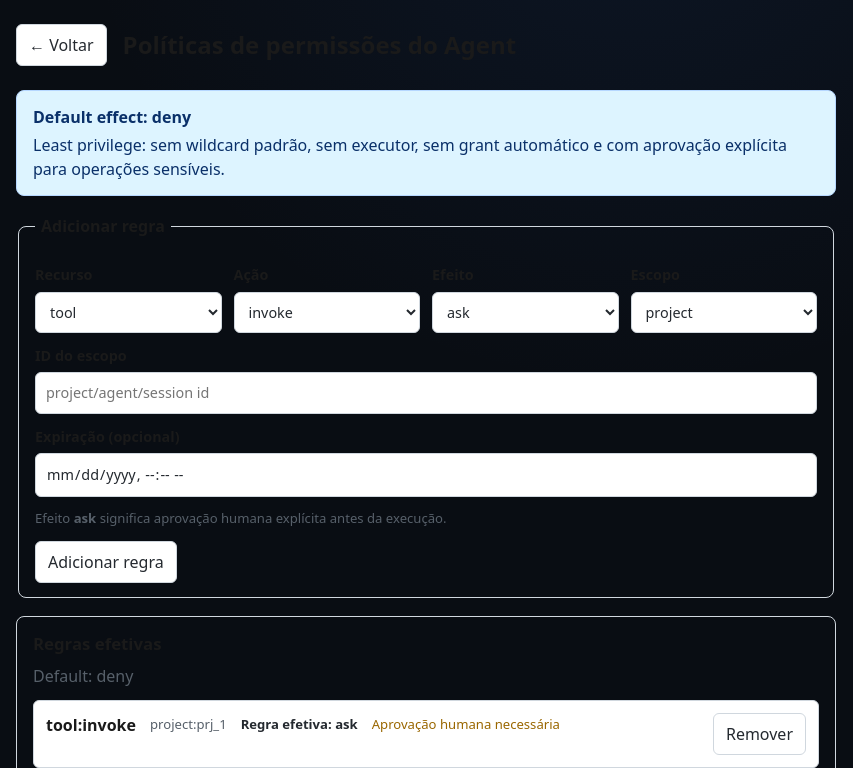
Test: PermissionsPage › rejects wildcard and malformed scope identifiers
Expected: the text "Default: deny" is shown, [33,665,133,687]
Step 1. Type "*" into the field labelled "ID do escopo" → (426, 393), box [35,372,817,414]
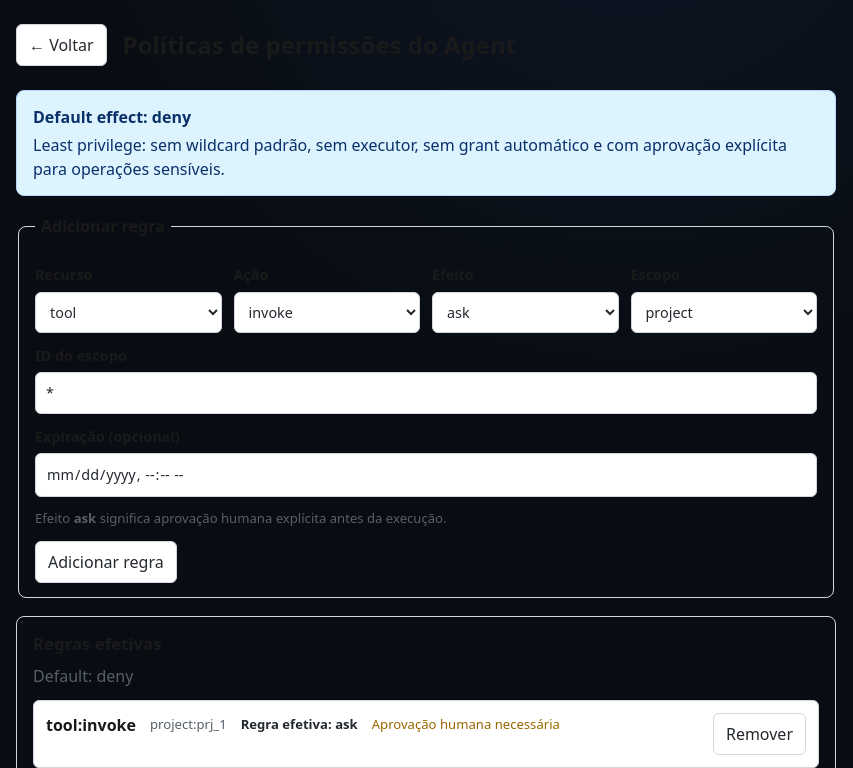
Step 2. Click the button "Adicionar regra" → (106, 562), box [35,541,177,583]
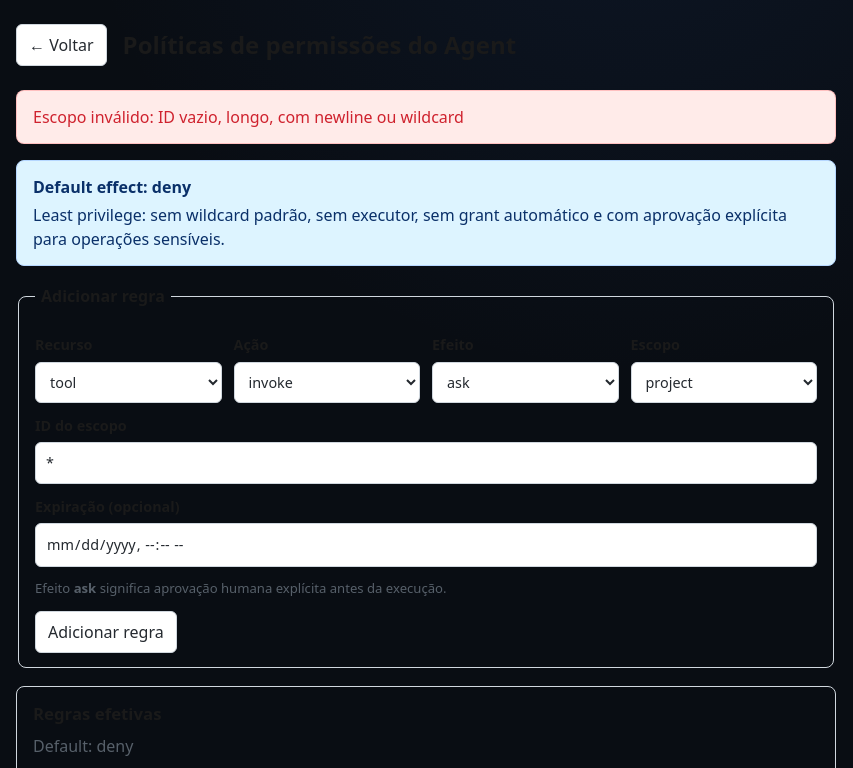
Now the message reads "Escopo inválido: ID vazio, longo, com newline ou wildcard", box [33,106,464,128]
